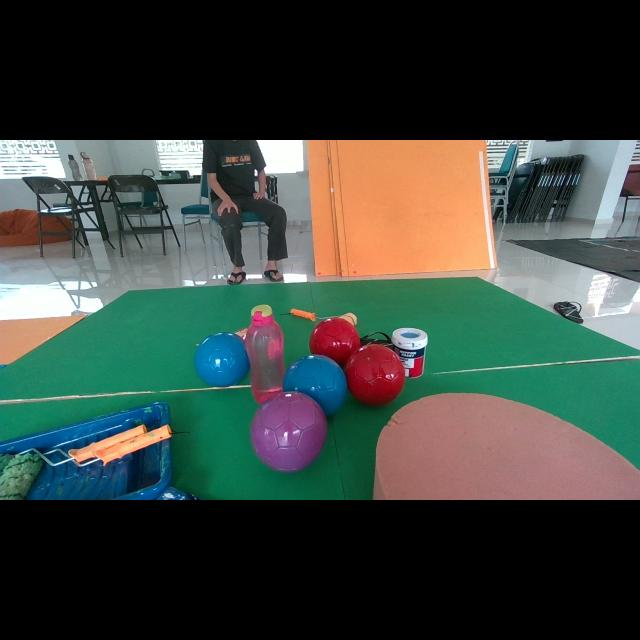B: (284, 355, 348, 415), (194, 332, 250, 386)
P: (250, 391, 328, 472)
R: (345, 344, 405, 406), (309, 319, 361, 366)
